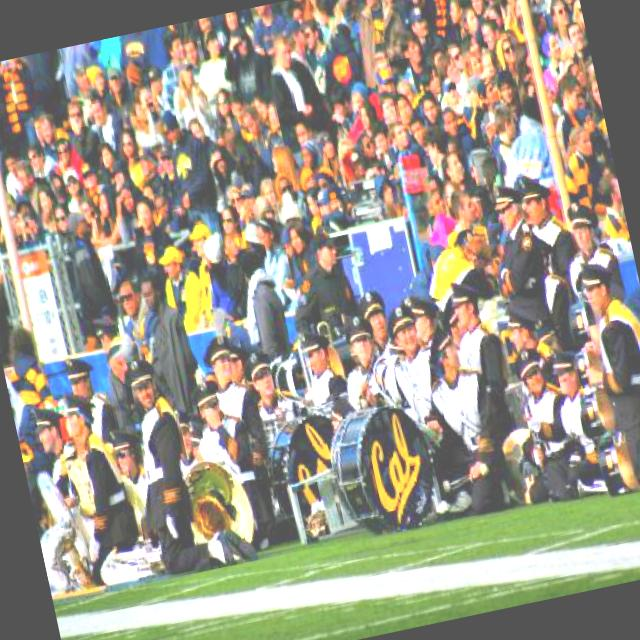Person: (0, 0, 640, 613), (111, 351, 203, 583)
